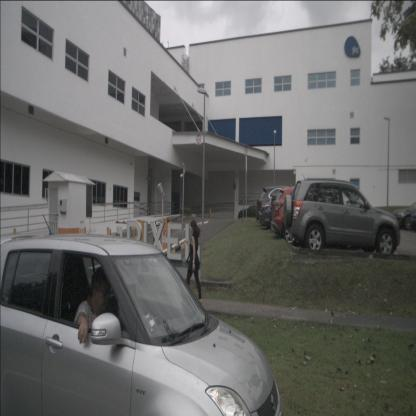cone: (209, 209, 212, 218)
